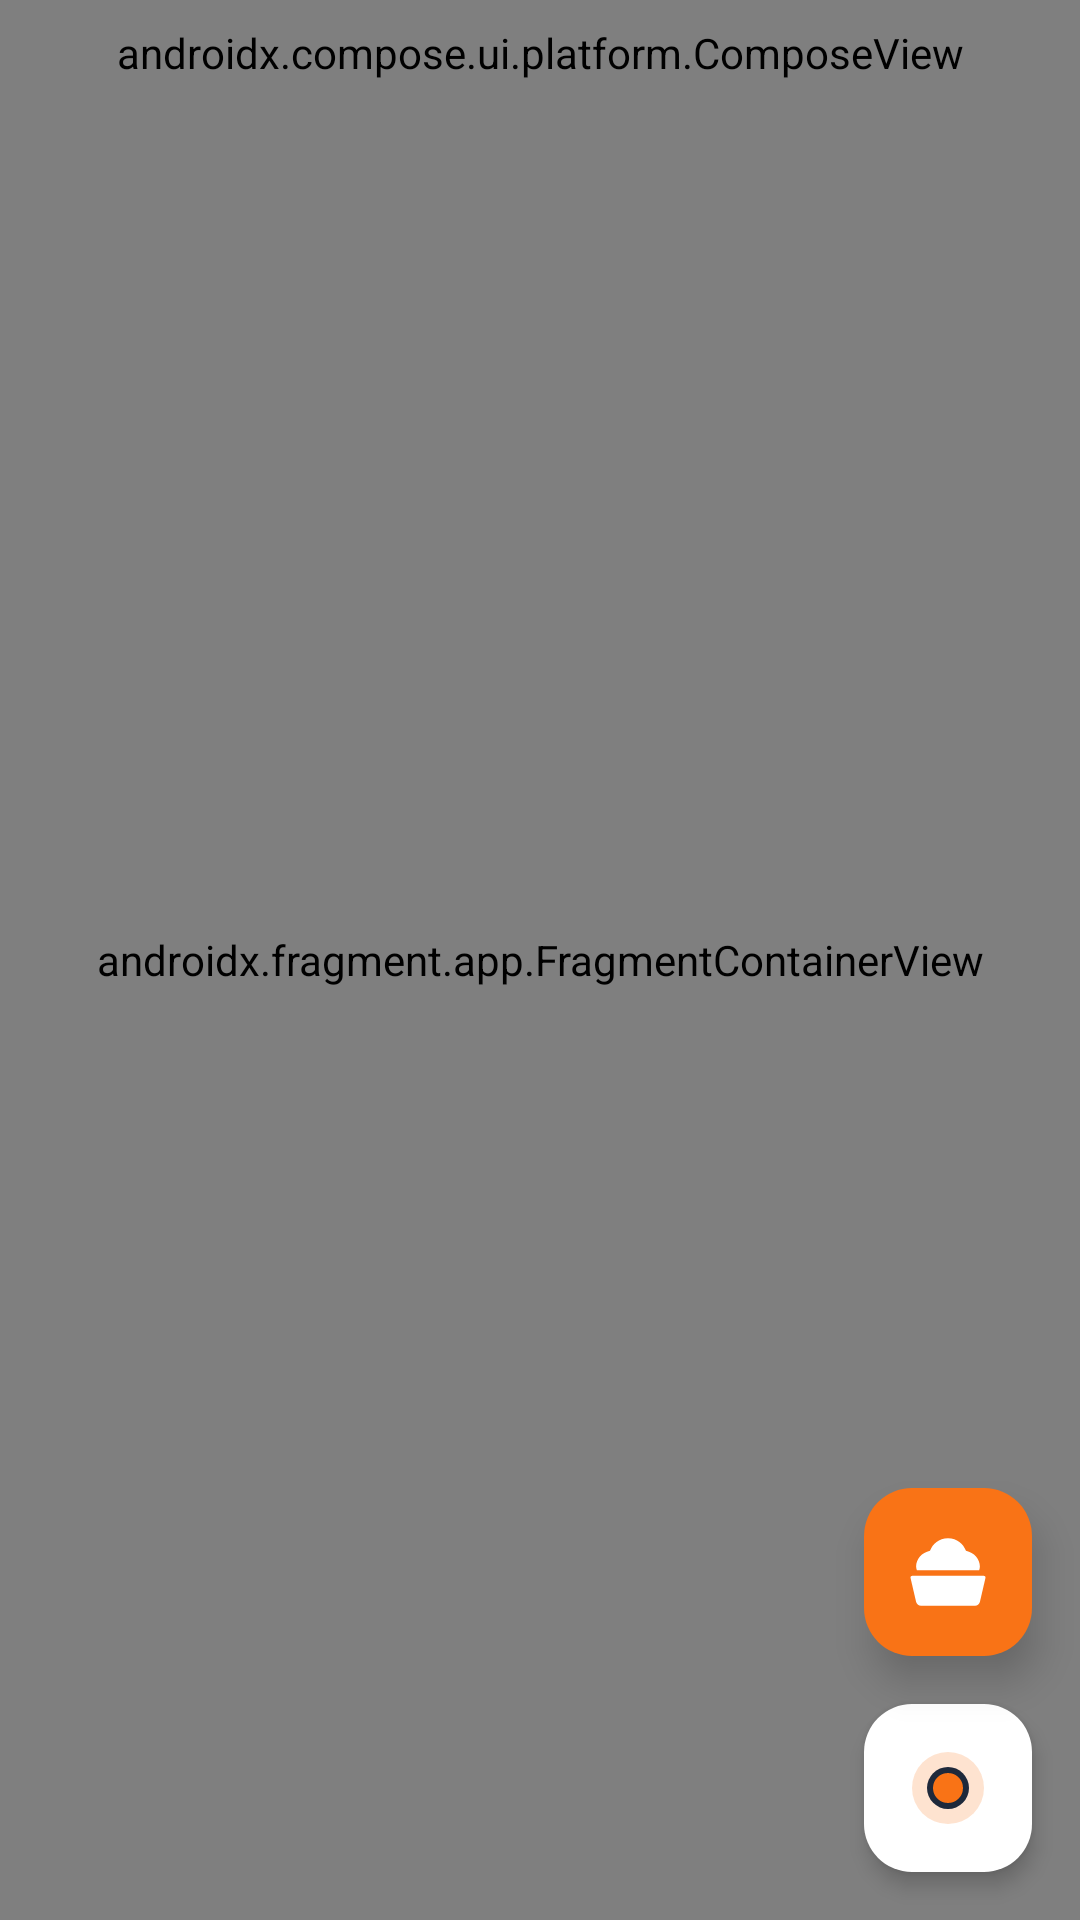

Where icons sit on this 1080 x 1920 app screen, as (x1, y1, x2, y2):
Mevcut Konum: (864, 1704, 1032, 1872)
